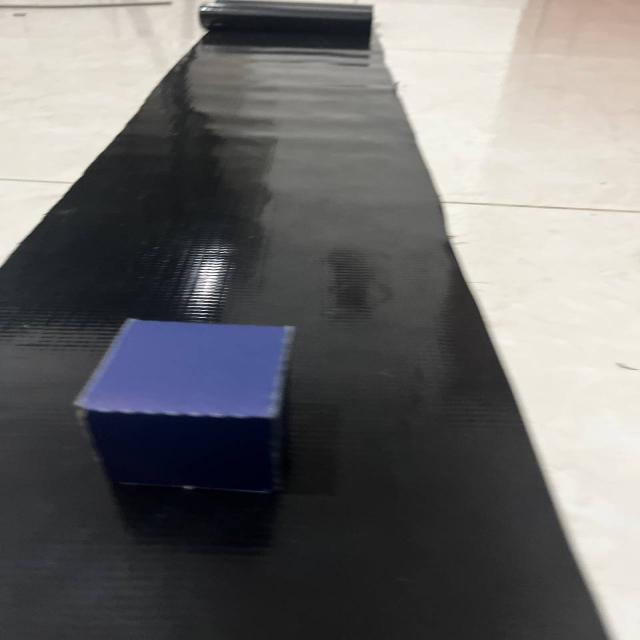Azul: (66, 301, 318, 518)
